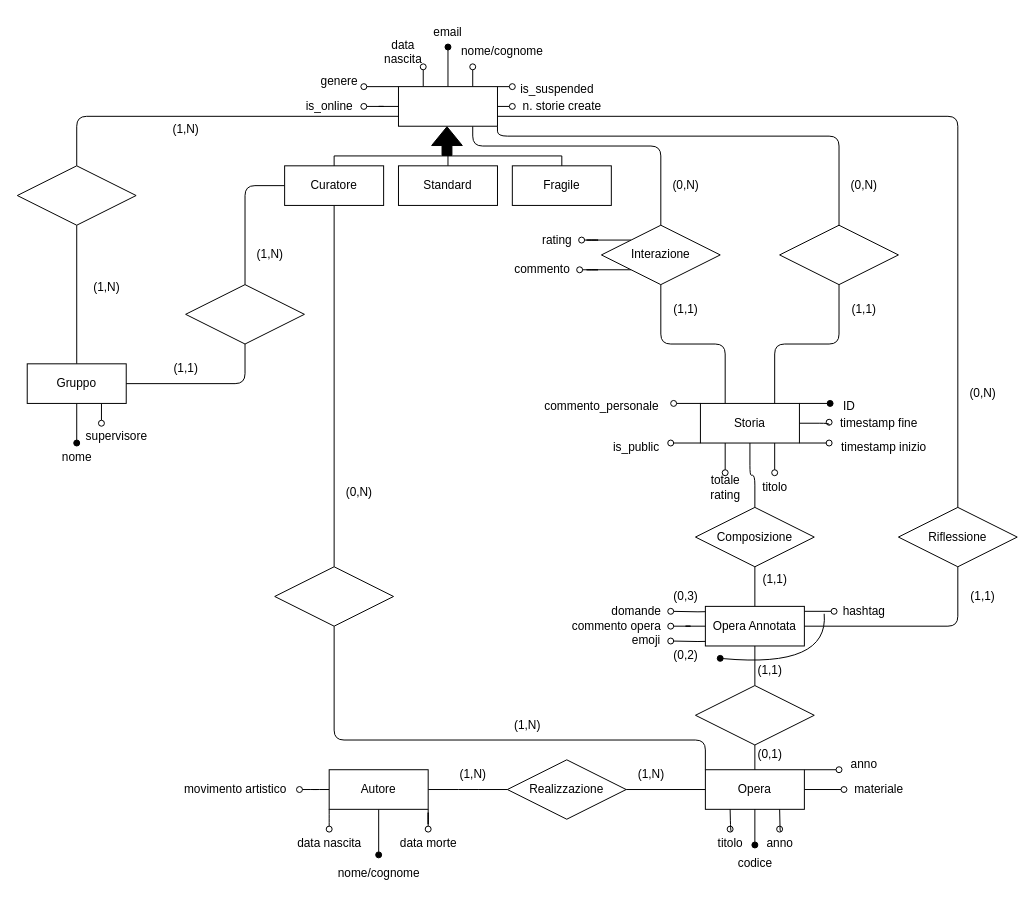
This 1035x905 diagram has some shape labels left out. The shapes that lost their labels are listed below. From the top down, each one's centre as x and y in pixels, then its label:
At point 447,106: "Utente".
At point 76,195: "Appartenenza".
At point 838,254: "Creazione".
At point 244,314: "Organizzazione".
At point 334,596: "Aggiunta".
At point 754,715: "Annotazione".
